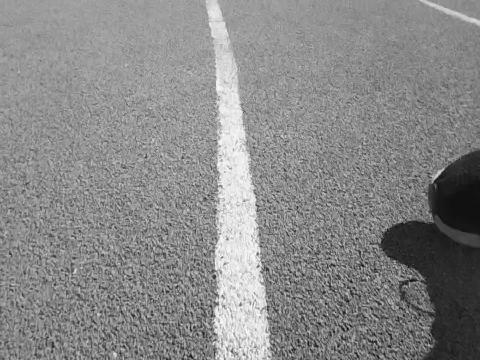Lines: (204, 0, 273, 360)
